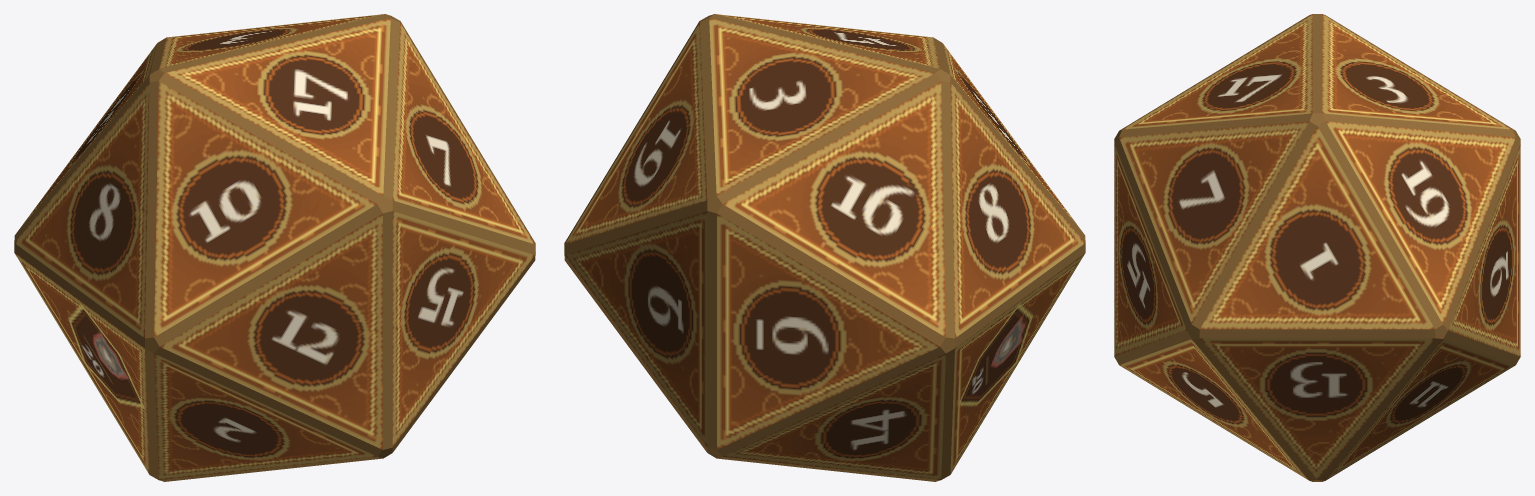
3 views of the same model, side by side, from view 1: azimuth 30°, elevation 25°; view 2: azimuth 150°, elevation 25°; view 3: azimuth 270°, elevation 25° (orthographic). The views are drawn at different scales.
Bounding box in the file's own units: 160 × 160 × 160.
1 material, 1 textured.
